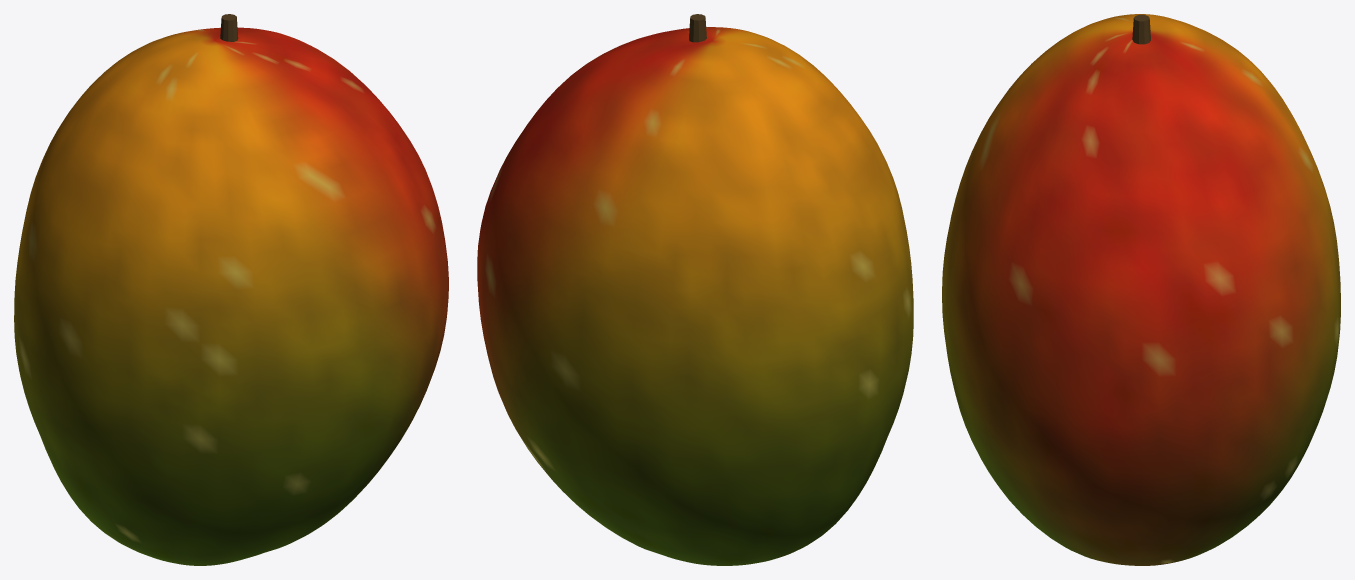
The model's file is mangue-lucie.glb.
3 renders of one model, left to right at view 1: azimuth 30°, elevation 25°; view 2: azimuth 150°, elevation 25°; view 3: azimuth 270°, elevation 25°, orthographic.
Visible parts, largest first — view 1: entier_peau, moitie_B_peau, moitie_A_peau; view 2: entier_peau, moitie_A_peau, moitie_B_peau; view 3: entier_peau, moitie_A_peau, moitie_B_peau, entier_extra0.
Boxes of the visible parts, x1=… form: entier_peau: x1=14, y1=27, x2=448, y2=565; moitie_B_peau: x1=38, y1=37, x2=448, y2=565; moitie_A_peau: x1=14, y1=28, x2=335, y2=520; entier_peau: x1=477, y1=27, x2=913, y2=565; moitie_A_peau: x1=477, y1=38, x2=889, y2=565; moitie_B_peau: x1=658, y1=27, x2=913, y2=520; entier_peau: x1=942, y1=14, x2=1340, y2=565; moitie_A_peau: x1=1141, y1=15, x2=1340, y2=565; moitie_B_peau: x1=942, y1=15, x2=1141, y2=565; entier_extra0: x1=1132, y1=14, x2=1150, y2=44.
Size of the model in its own units: 1.6 by 2.08 by 1.4.
